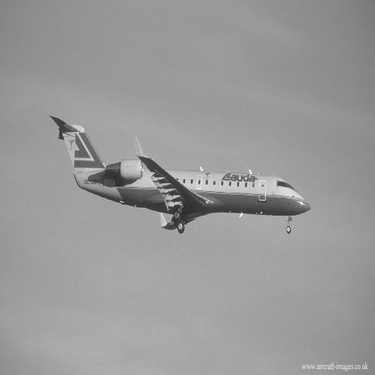airplane: (39, 113, 320, 239)
